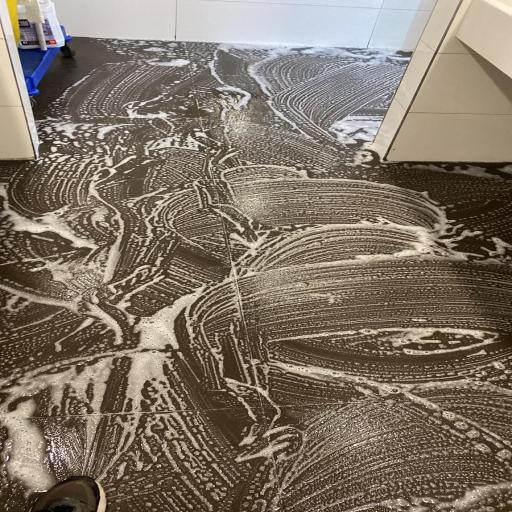wet_floor: (0, 39, 511, 511)
